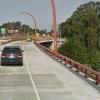Car: (2, 38, 35, 74)
